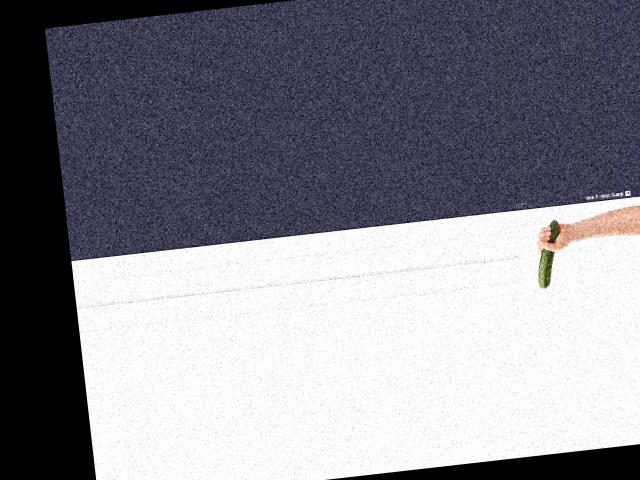cucumber: (531, 219, 564, 288)
